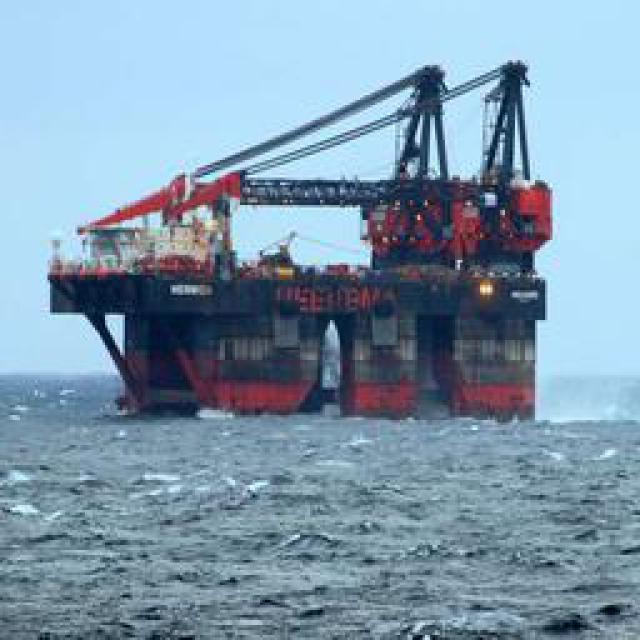Ship: (40, 50, 583, 420)
